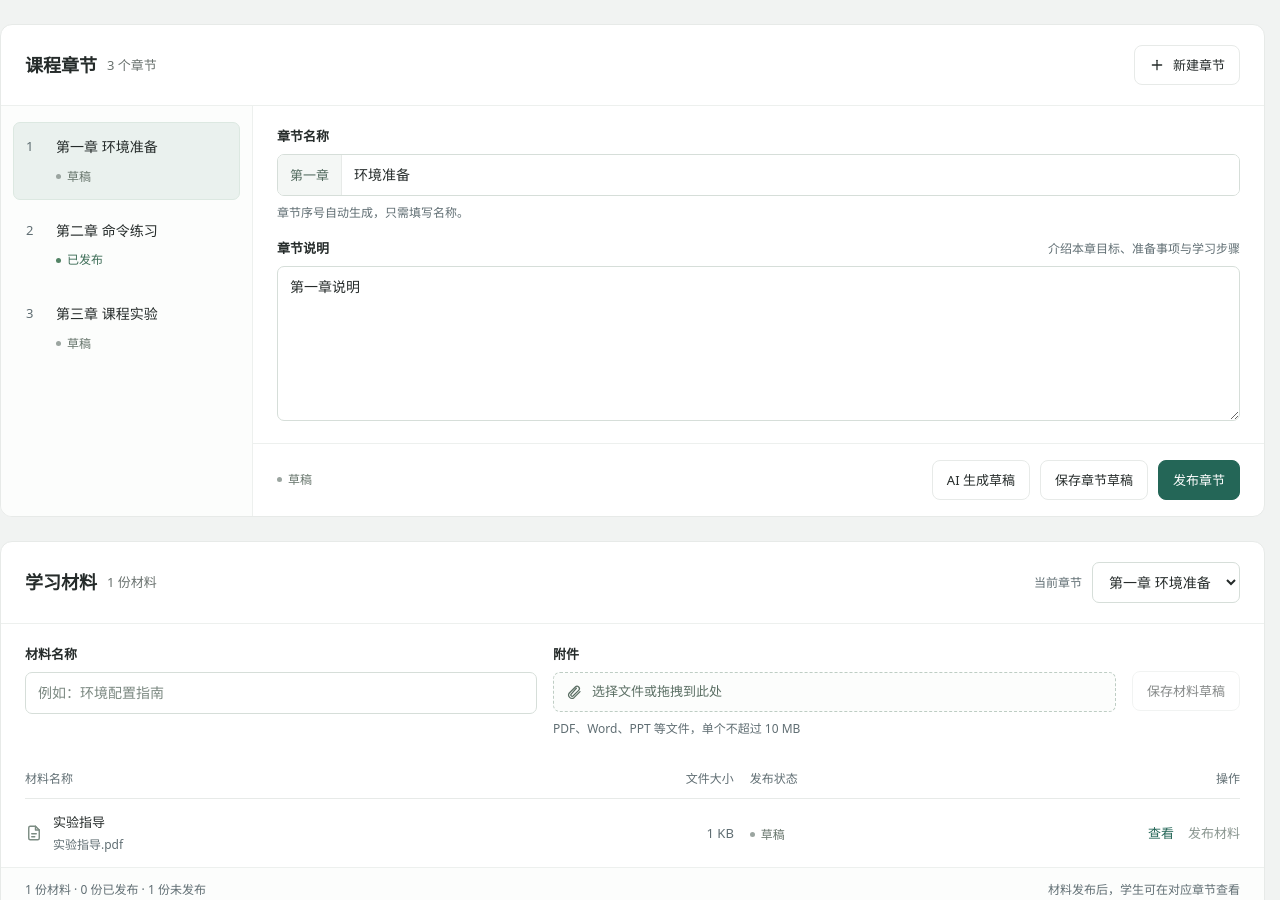
automatically creates chapter four while the teacher enters only its name
Later steps or results of the test are not shown.
Expected: the button "1 第一章 环境准备 草稿" is shown, [13,122,240,200]
Expected: the field labelled "章节名称" holds "环境准备", [342,155,1239,195]
Click the button "新建章节" at (1187, 65), box [1134,45,1240,85]
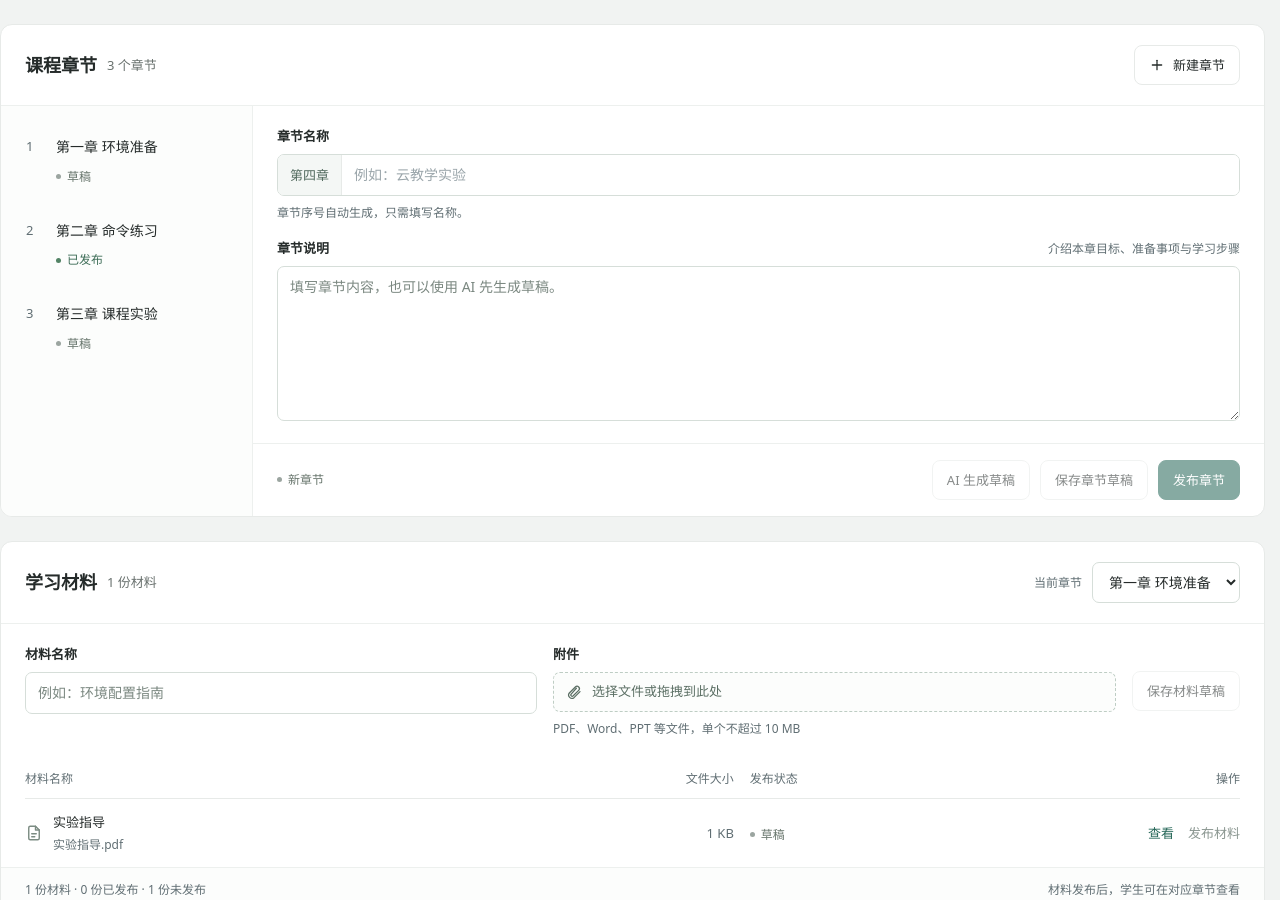
Expected: the text with test id "chapter-prefix" reads "第四章", [290,166,329,184]
